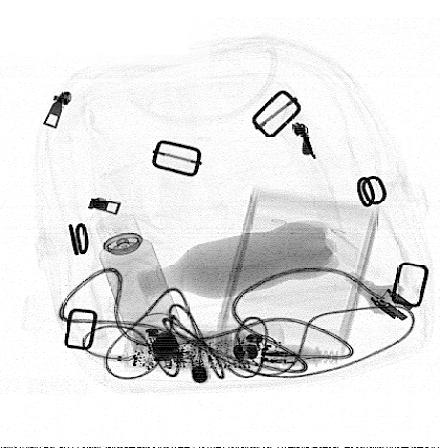Sprayer: (95, 214, 192, 365)
